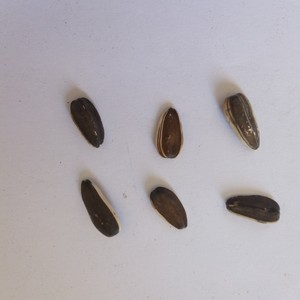girasol: (77, 176, 123, 238), (220, 91, 262, 152), (65, 94, 107, 150), (147, 185, 189, 232), (223, 193, 282, 224), (153, 106, 185, 160)
